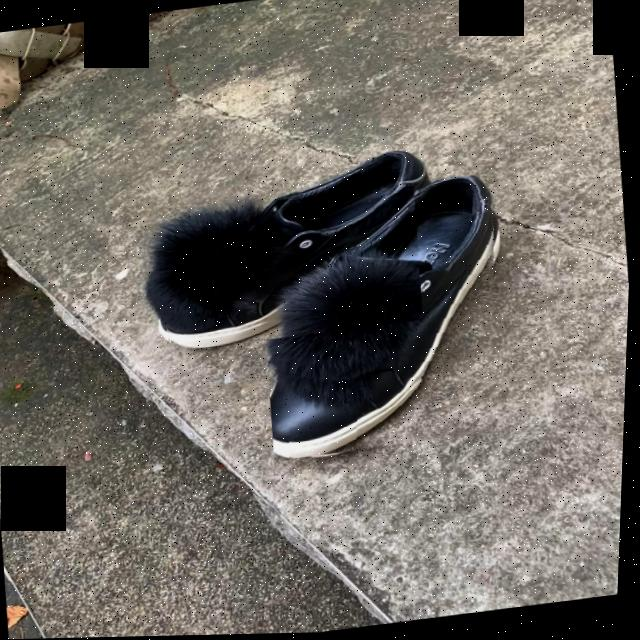shoe: (273, 177, 496, 459), (168, 150, 414, 350)
